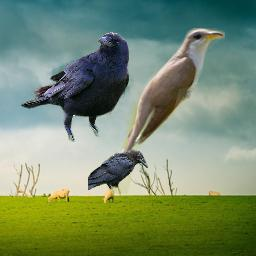Crow: (20, 32, 129, 142), (88, 149, 148, 190)
Cuckoo: (105, 28, 225, 194)
